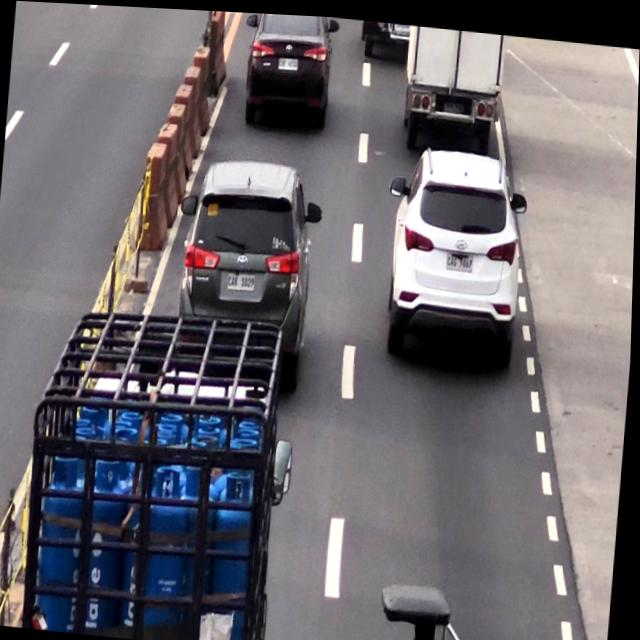Car: (385, 141, 528, 370), (178, 147, 320, 339), (235, 10, 338, 132)
License-Plate: (226, 268, 258, 295), (447, 247, 477, 269), (277, 53, 301, 69)
Truck: (29, 317, 287, 640), (399, 21, 512, 158)
